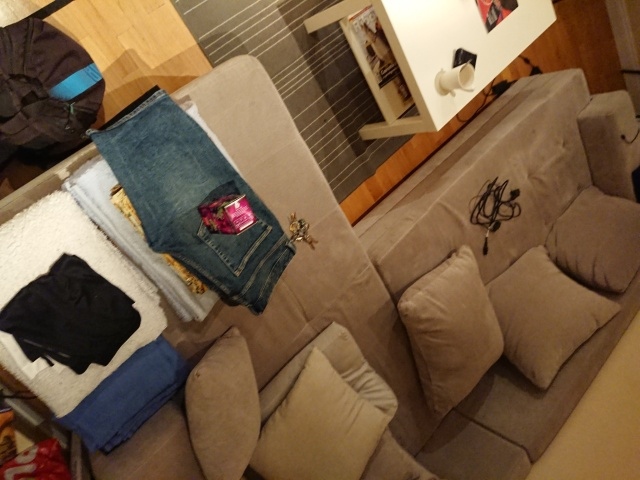Franck Black Currant Tea 60g: (195, 191, 261, 238)
